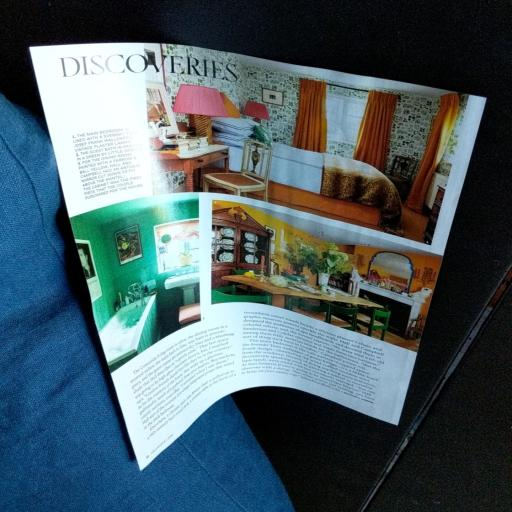paper: (8, 26, 468, 491)
